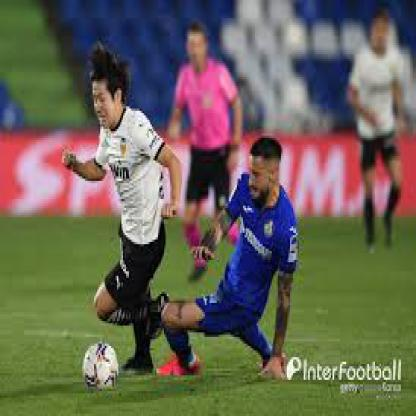Fall_Down: (154, 136, 300, 383)
